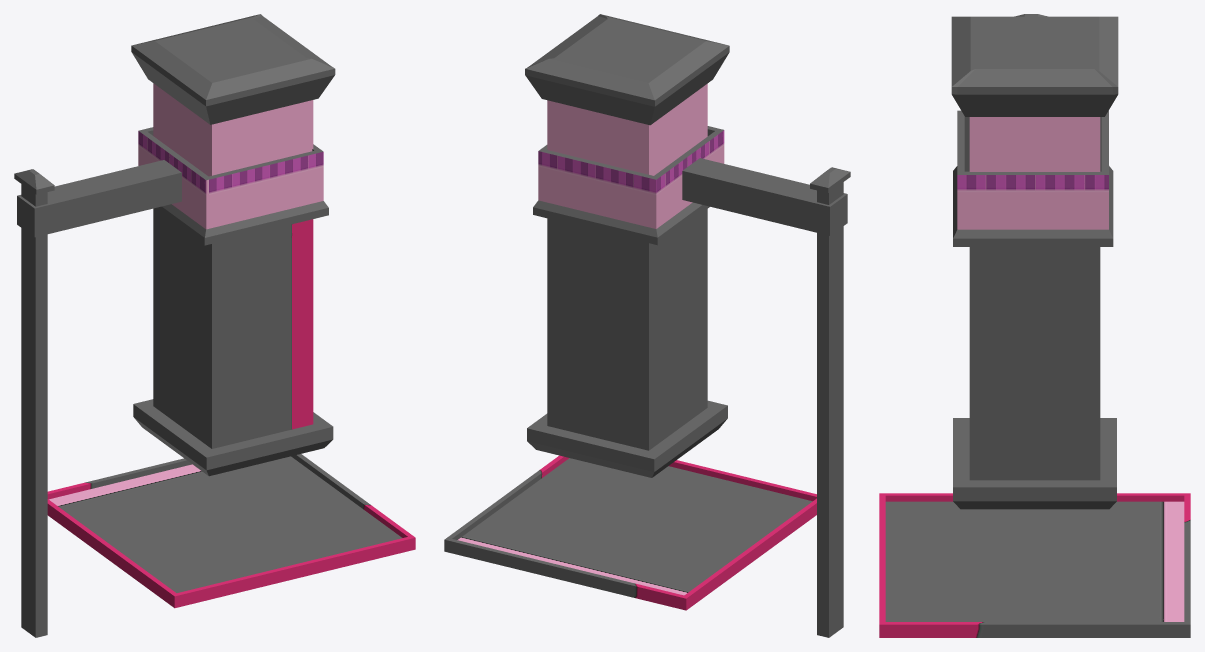
The model's file is engel_ (1).fbx.
3 views of the same model, side by side, from view 1: azimuth 30°, elevation 25°; view 2: azimuth 150°, elevation 25°; view 3: azimuth 270°, elevation 25° (orthographic). The views are drawn at different scales.
Visible parts, largest first — view 1: Cube.002, Cube.001, Cube; view 2: Cube.002, Cube.001, Cube; view 3: Cube.002, Cube.001, Cube.
Boxes of the visible parts, <box> form: Cube.002: <box>131,14,335,476</box>; Cube.001: <box>47,454,415,608</box>; Cube: <box>14,127,328,637</box>; Cube.002: <box>525,14,729,477</box>; Cube.001: <box>444,455,816,610</box>; Cube: <box>533,126,850,637</box>; Cube.002: <box>951,16,1118,509</box>; Cube.001: <box>879,493,1190,637</box>; Cube: <box>953,14,1113,246</box>.
Size of the model in its own units: 3.5 by 5.52 by 2.62.
1 material, 1 textured.
